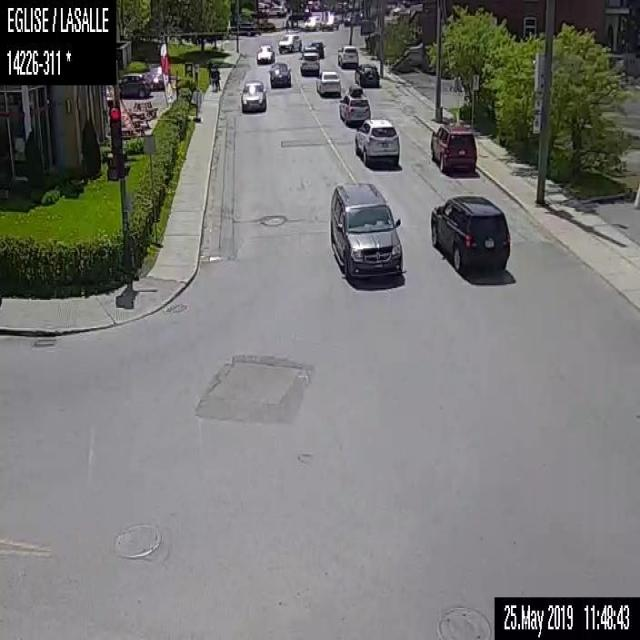pedestrian: (214, 62, 220, 92), (209, 61, 214, 92)
vehicle: (327, 178, 402, 278), (428, 192, 510, 273), (428, 120, 476, 173), (352, 117, 401, 165), (338, 82, 370, 127), (240, 76, 266, 113), (119, 71, 151, 98), (315, 69, 341, 97), (353, 61, 379, 88), (267, 62, 291, 88), (147, 63, 170, 89), (336, 43, 358, 68), (298, 51, 319, 75), (277, 32, 301, 52), (228, 20, 257, 36), (254, 42, 274, 62), (318, 12, 338, 30), (304, 14, 322, 30), (265, 3, 287, 16), (301, 44, 318, 60), (310, 41, 325, 57)
